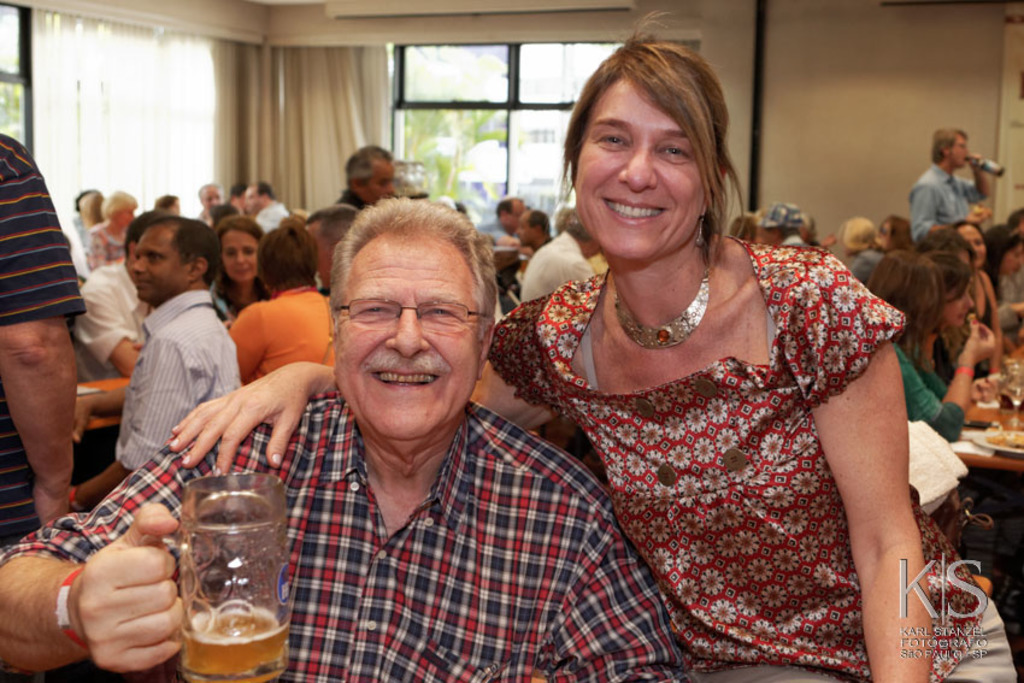Beer: (185, 599, 290, 681)
